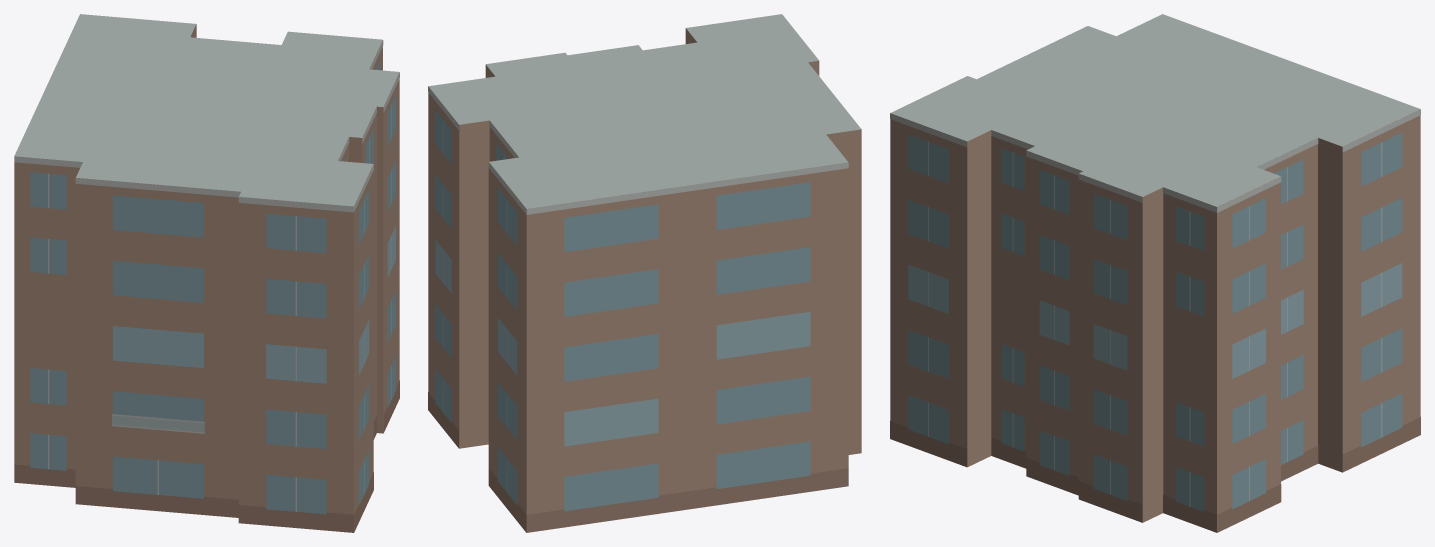
Rendered from survey-upis-32615093.glb.
3 renders of one model, left to right at view 1: azimuth 30°, elevation 25°; view 2: azimuth 150°, elevation 25°; view 3: azimuth 270°, elevation 25°, orthographic.
Parts seen in each view (by area): view 1: survey-upis-32615093.tmp; view 2: survey-upis-32615093.tmp; view 3: survey-upis-32615093.tmp.
Part boxes in pixels (bbox=[...]): survey-upis-32615093.tmp: bbox=[14, 14, 399, 532]; survey-upis-32615093.tmp: bbox=[428, 14, 861, 532]; survey-upis-32615093.tmp: bbox=[890, 14, 1420, 532].
Bounding box in the file's own units: 16.97 × 13.35 × 19.71.
